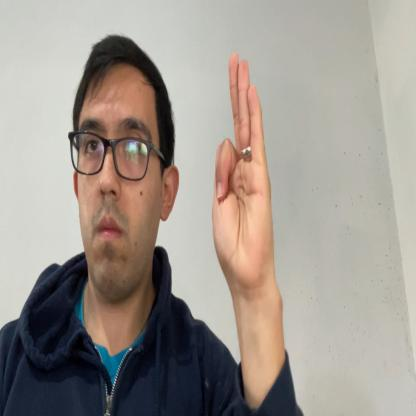F: (211, 50, 273, 290)
